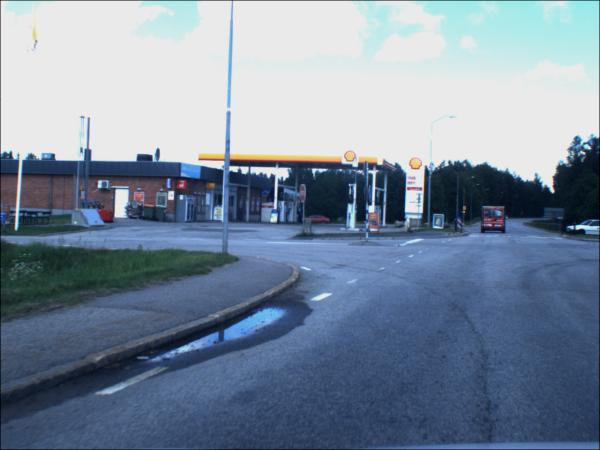50_SIGN: (463, 207, 467, 212)
PASS_RIGHT_SIDE: (369, 187, 373, 204)
PRIORITY_ROAD: (462, 212, 466, 215)
STOP: (299, 185, 307, 205)
